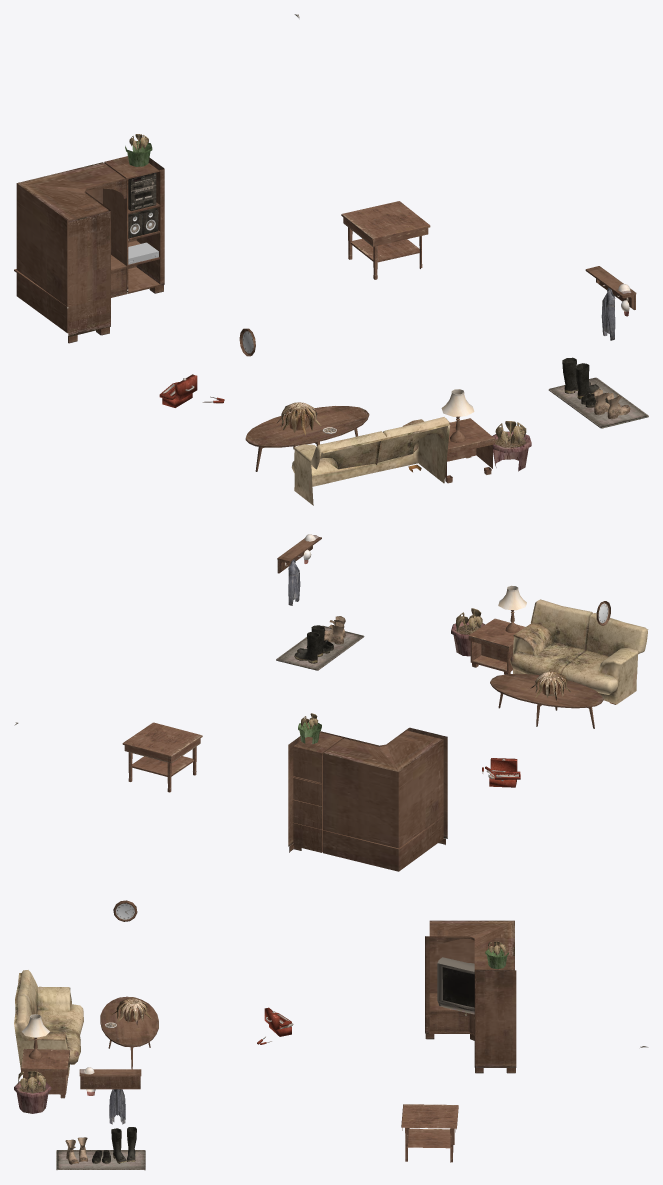
File: MOVEIS_SALA.fbx
3 renders of one model, top to bottom at view 1: azimuth 30°, elevation 25°; view 2: azimuth 150°, elevation 25°; view 3: azimuth 270°, elevation 25°, orthographic. The views are drawn at different scales.
Parts seen in each view (by area): view 1: SALA_TV, SALA_SOFAR, Sala_Tapete_Roupas, SALA_MESACANTO, SALA_MESACENTRO, Sala_Plantas, SALA_MESADECANTO, Sala_TocaFita, Sala_CaixaFerramentas, SALA_LUZDEMESA, Sala_CaixaSom, SALA_PORTATRECO; view 2: SALA_TV, SALA_SOFAR, SALA_MESACANTO, Sala_Tapete_Roupas, SALA_MESACENTRO, Sala_Plantas, SALA_MESADECANTO, Sala_CaixaFerramentas, SALA_LUZDEMESA, SALA_PORTATRECO; view 3: SALA_TV, SALA_SOFAR, Sala_Tapete_Roupas, SALA_MESACANTO, Sala_Plantas, SALA_MESACENTRO, SALA_MESADECANTO, SALA_PORTATRECO, Sala_CaixaFerramentas, SALA_LUZDEMESA, SALA_RELOGIO.
Boxes of the visible parts, x1,y1,x2,y2 form: SALA_TV: [14, 14, 299, 343]; SALA_SOFAR: [291, 417, 450, 505]; Sala_Tapete_Roupas: [548, 284, 648, 428]; SALA_MESACANTO: [341, 201, 430, 279]; SALA_MESACENTRO: [245, 406, 369, 471]; Sala_Plantas: [125, 134, 531, 471]; SALA_MESADECANTO: [445, 418, 495, 483]; Sala_TocaFita: [128, 172, 156, 210]; Sala_CaixaFerramentas: [159, 374, 224, 407]; SALA_LUZDEMESA: [441, 389, 474, 442]; Sala_CaixaSom: [128, 207, 158, 238]; SALA_PORTATRECO: [585, 266, 636, 309]; SALA_TV: [14, 722, 447, 871]; SALA_SOFAR: [510, 599, 648, 704]; SALA_MESACANTO: [122, 722, 202, 792]; Sala_Tapete_Roupas: [276, 534, 364, 670]; SALA_MESACENTRO: [490, 673, 603, 728]; Sala_Plantas: [298, 608, 570, 744]; SALA_MESADECANTO: [468, 618, 525, 674]; Sala_CaixaFerramentas: [482, 758, 520, 787]; SALA_LUZDEMESA: [498, 585, 526, 632]; SALA_PORTATRECO: [277, 536, 321, 573]; SALA_TV: [425, 920, 648, 1073]; SALA_SOFAR: [14, 970, 83, 1076]; Sala_Tapete_Roupas: [56, 1067, 145, 1170]; SALA_MESACANTO: [401, 1104, 458, 1162]; Sala_Plantas: [14, 941, 508, 1113]; SALA_MESACENTRO: [100, 996, 158, 1069]; SALA_MESADECANTO: [21, 1048, 69, 1098]; SALA_PORTATRECO: [79, 1069, 141, 1089]; Sala_CaixaFerramentas: [257, 1007, 293, 1044]; SALA_LUZDEMESA: [21, 1014, 49, 1059]; SALA_RELOGIO: [113, 900, 137, 921].
Size of the model in its own units: 57690 by 23042 by 104019.
